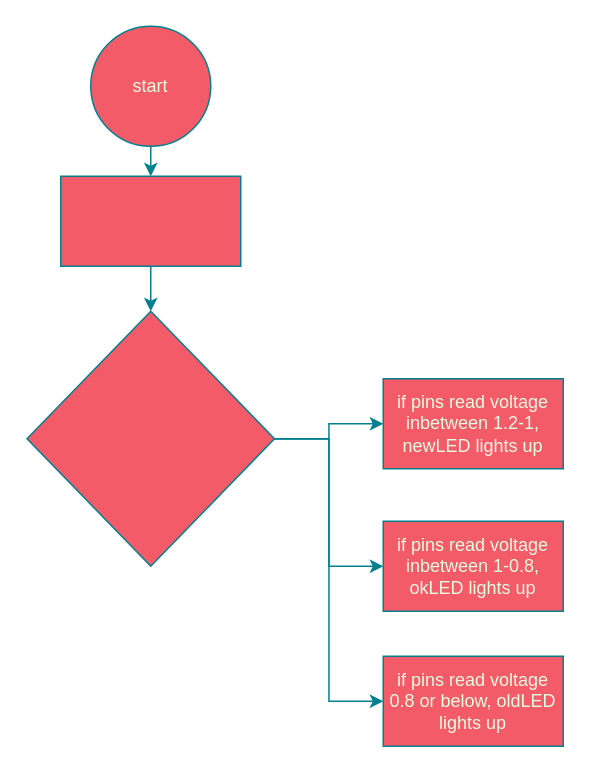
This 590x773 diagram has some shape labels left out. The shapes that lost their labels are listed below. From the top down, each one's centre as x and y in pixels, then its label:
At point 150,220: "pin a0 (+) ground (-)".
At point 150,438: "user connects wires to corresponding battery sides".
